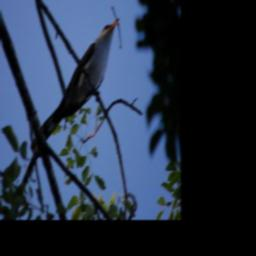Cuckoo: (41, 15, 121, 136)
